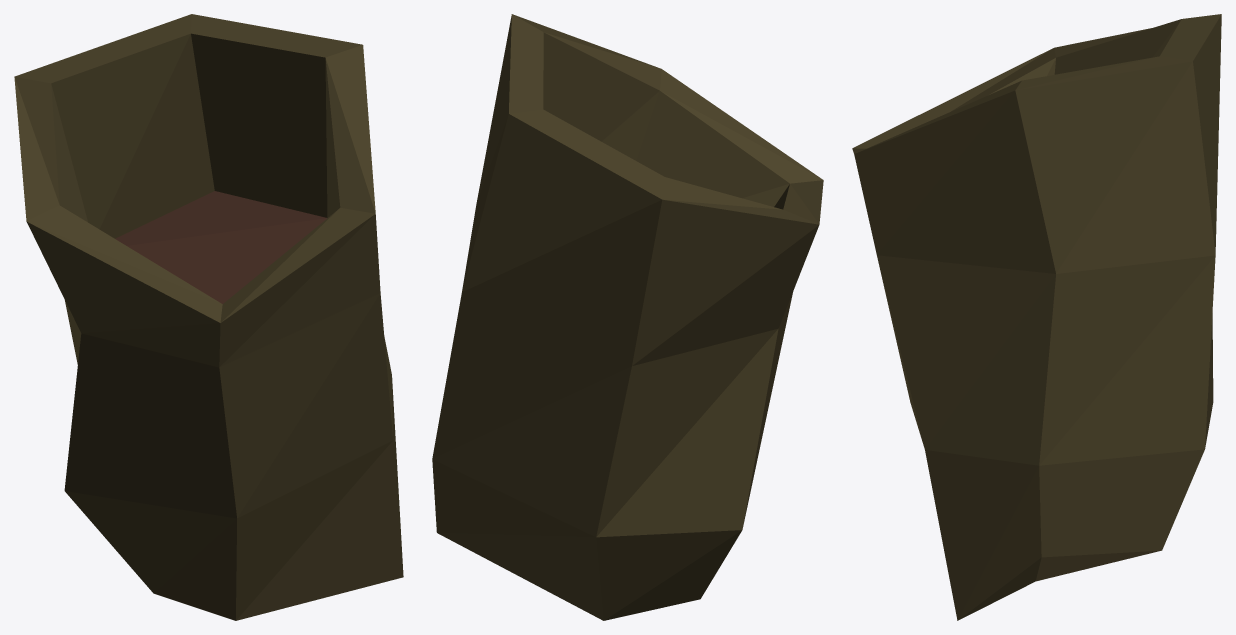
The model's file is OC_SACK_V01.OBJ.
3 renders of one model, left to right at view 1: azimuth 30°, elevation 25°; view 2: azimuth 150°, elevation 25°; view 3: azimuth 270°, elevation 25°, orthographic. The views are drawn at different scales.
Parts seen in each view (by area): view 1: OC_SACK_V01; view 2: OC_SACK_V01; view 3: OC_SACK_V01.
Boxes of the visible parts, x1=… form: OC_SACK_V01: x1=14, y1=14, x2=403, y2=620; OC_SACK_V01: x1=432, y1=14, x2=823, y2=620; OC_SACK_V01: x1=852, y1=14, x2=1221, y2=620.
Bounding box in the file's own units: 0.6719 × 0.9237 × 0.5883.
